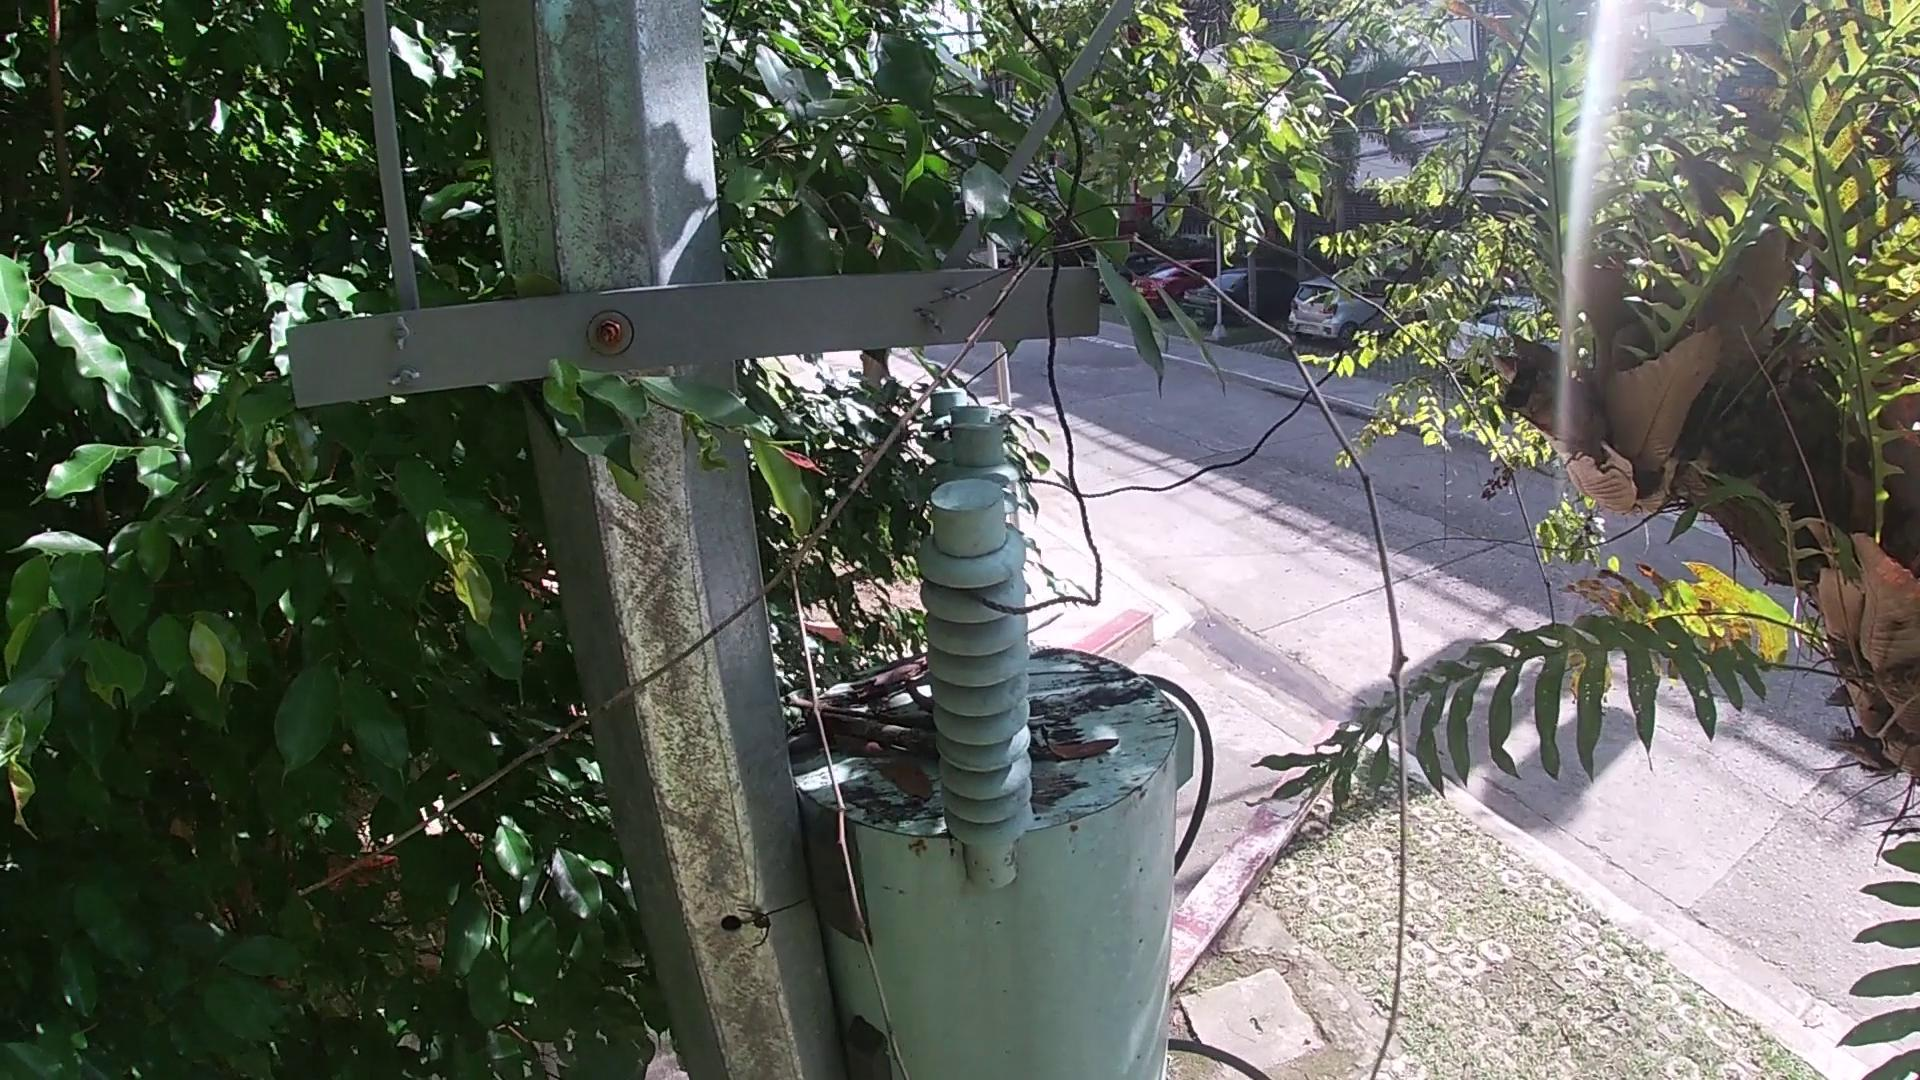leaf: (814, 742, 891, 767), (882, 767, 943, 798)
mahogany fruit: (1034, 736, 1131, 767), (905, 684, 945, 713)
tree branch: (327, 210, 1491, 1071), (795, 713, 945, 745), (819, 655, 930, 698), (787, 691, 899, 727)
